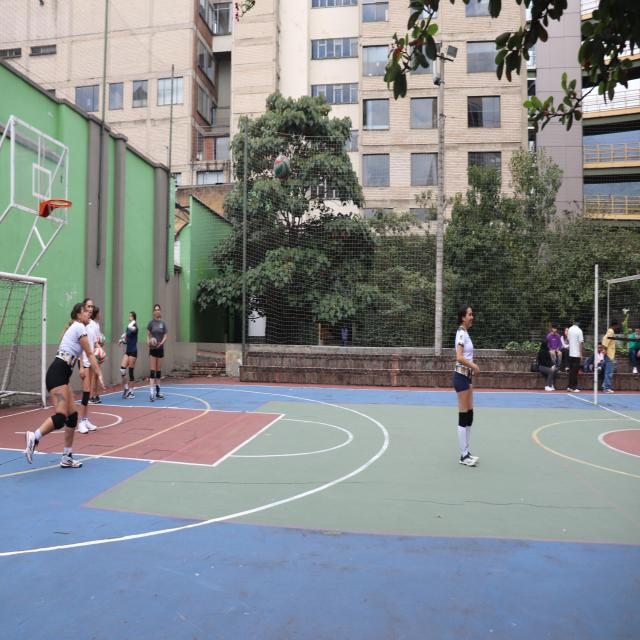volleyball: (274, 154, 290, 180), (94, 348, 102, 364), (96, 333, 106, 345), (149, 338, 157, 350), (121, 333, 127, 344)
